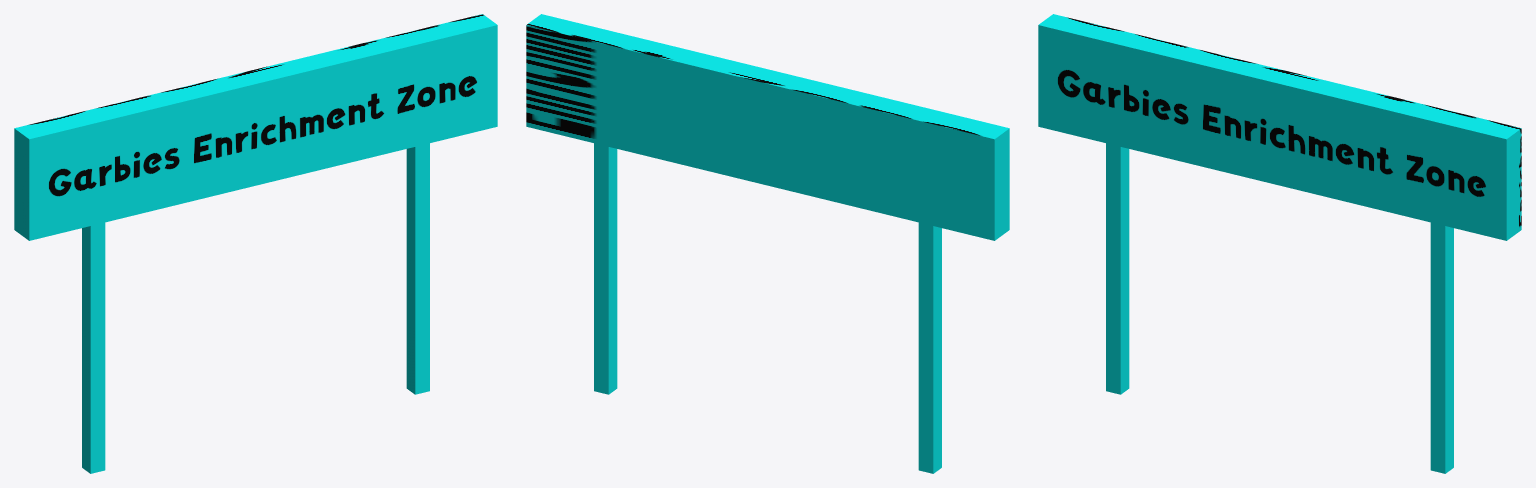
File: EnrichmentPlang.glb
The picture shows the model from 3 angles, left to right: view 1: azimuth 30°, elevation 25°; view 2: azimuth 150°, elevation 25°; view 3: azimuth 330°, elevation 25°; orthographic projection.
Visible parts, largest first — view 1: Cube, Cube.001; view 2: Cube, Cube.001; view 3: Cube, Cube.001.
Boxes of the visible parts, x1,y1,x2,y2 form: Cube: (14, 14, 497, 240); Cube.001: (82, 143, 429, 473); Cube: (526, 14, 1009, 240); Cube.001: (594, 143, 941, 473); Cube: (1038, 14, 1521, 240); Cube.001: (1106, 143, 1453, 473).
Bounding box in the file's own units: 1.98 × 1.43 × 0.1102.
Materials: 2 (1 with a texture image).
